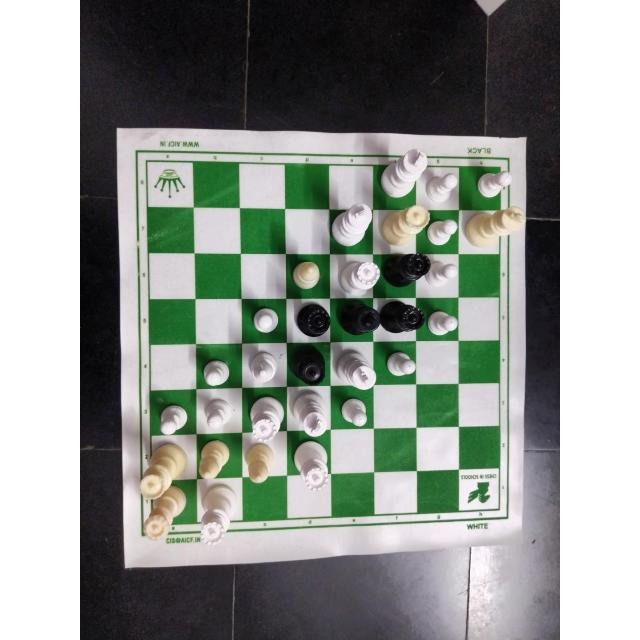black-king: (336, 301, 379, 341)
black-queen: (380, 299, 424, 339), (384, 253, 428, 293), (292, 299, 332, 340), (286, 346, 327, 383)
white-bishop: (194, 441, 234, 481), (242, 442, 273, 485), (246, 347, 280, 384), (290, 258, 321, 295)
white-king: (376, 144, 426, 200), (465, 206, 525, 250), (330, 202, 374, 250), (331, 346, 376, 391), (289, 388, 331, 436)
white-pawn: (473, 166, 512, 201), (379, 349, 416, 383), (424, 172, 460, 206), (157, 400, 191, 436), (201, 394, 233, 432), (425, 305, 459, 340), (199, 355, 232, 386), (339, 395, 369, 429), (250, 303, 281, 334), (426, 219, 459, 247), (425, 259, 458, 287)
white-queen: (196, 484, 243, 545), (137, 441, 188, 497), (138, 488, 186, 538), (291, 438, 333, 492), (379, 204, 428, 245), (336, 255, 381, 298), (246, 395, 282, 441)
